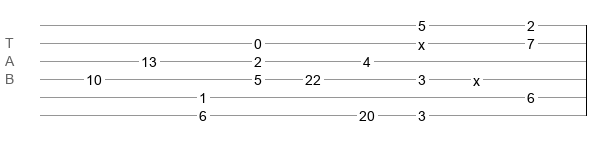0: (254, 36, 262, 46)
1: (199, 90, 207, 100)
10: (86, 72, 102, 82)
13: (141, 54, 157, 64)
2: (254, 54, 262, 64), (527, 18, 535, 28)
20: (359, 108, 375, 118)
22: (305, 72, 321, 82)
3: (418, 72, 426, 82), (418, 108, 426, 118)
4: (363, 54, 371, 64)
5: (254, 72, 262, 82), (418, 18, 426, 28)
6: (199, 108, 207, 118), (527, 90, 535, 100)
7: (527, 36, 535, 46)
x: (418, 37, 425, 45), (473, 73, 480, 81)
